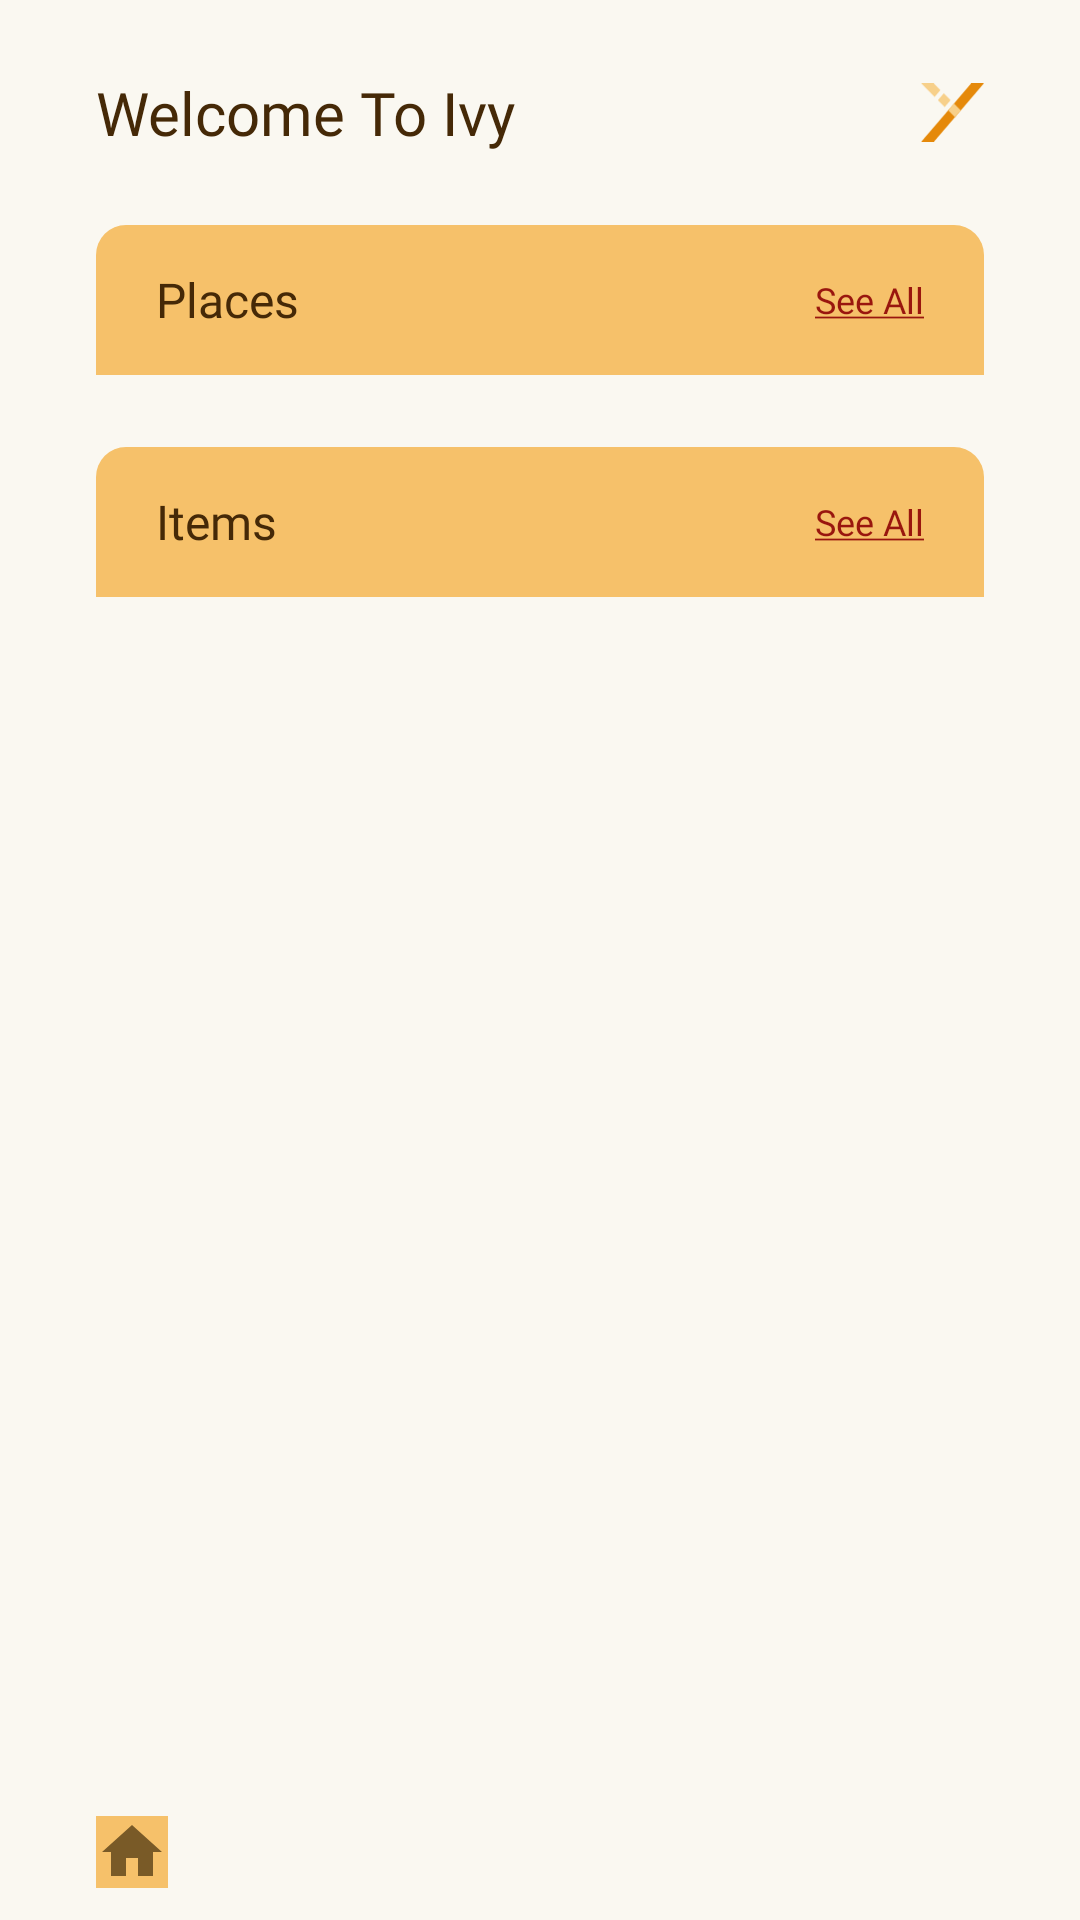

Screen size 1080x1920. Icon name, then its center in pixels as (x,y):
home brown: (132,1852)
